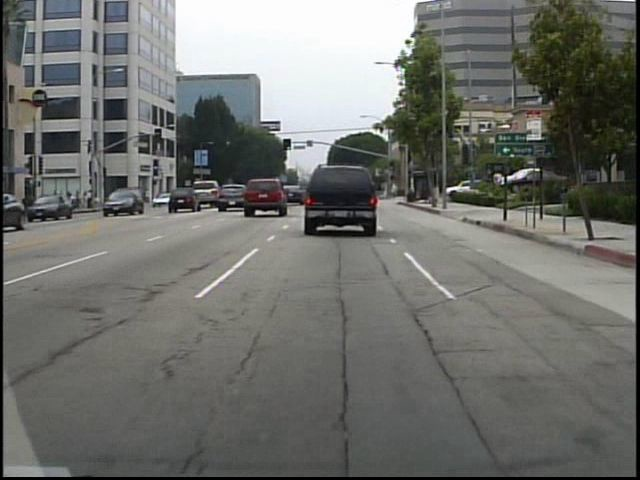person: (132, 187, 144, 209), (389, 181, 400, 202)
